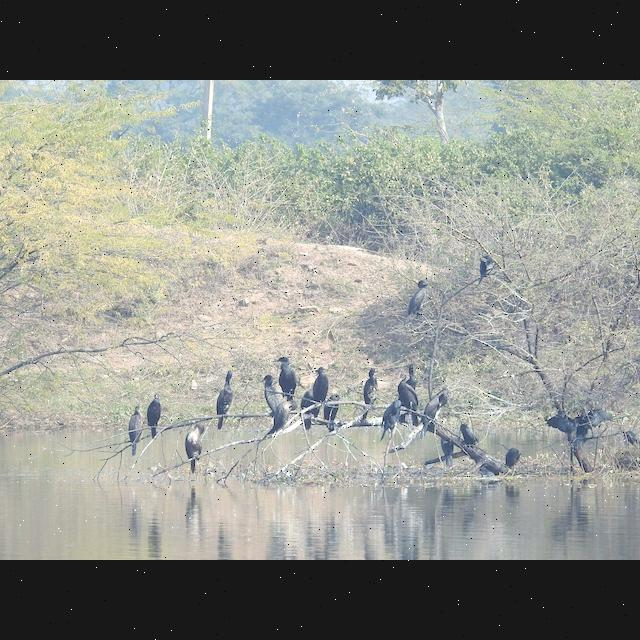cormorant: (212, 364, 242, 430), (404, 275, 432, 325), (185, 424, 208, 474), (471, 250, 501, 288), (145, 392, 165, 440), (300, 386, 322, 429), (278, 353, 298, 399), (323, 389, 343, 435), (382, 398, 401, 446), (126, 402, 142, 458), (422, 392, 441, 438), (542, 412, 576, 436), (362, 366, 380, 410), (312, 362, 331, 402), (460, 424, 488, 451), (258, 374, 276, 416), (501, 446, 523, 474), (401, 378, 419, 412), (440, 432, 454, 466)
